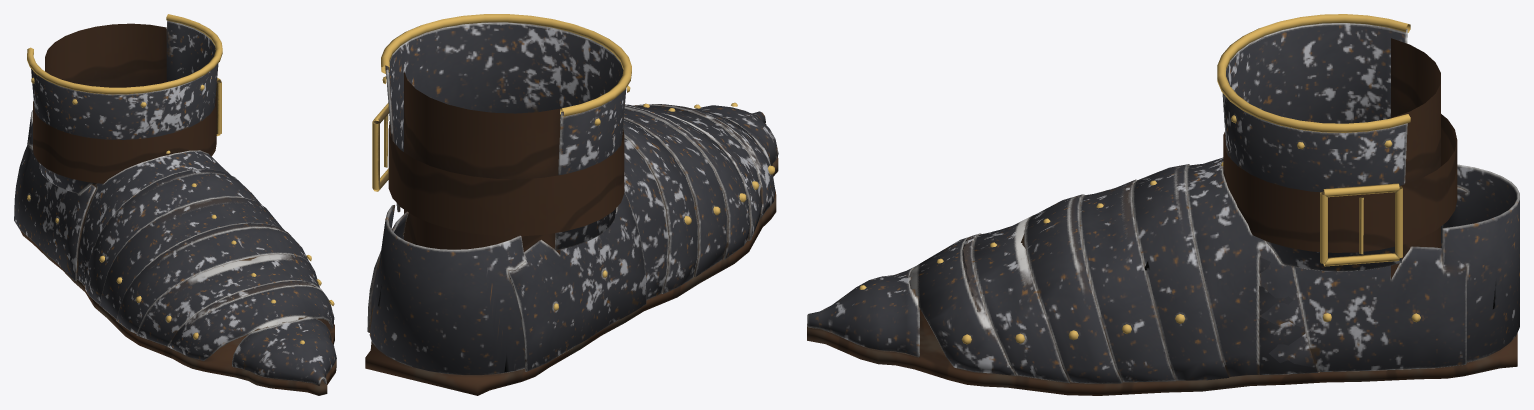
The model's file is SM_EagleSabatons_L_LOD1.fbx.
3 renders of one model, left to right at view 1: azimuth 30°, elevation 25°; view 2: azimuth 150°, elevation 25°; view 3: azimuth 270°, elevation 25°, orthographic. The views are drawn at different scales.
Visible parts, largest first — view 1: SM_EagleSabatons_L_LOD1; view 2: SM_EagleSabatons_L_LOD1; view 3: SM_EagleSabatons_L_LOD1.
Boxes of the visible parts, x1,y1,x2,y2 form: SM_EagleSabatons_L_LOD1: (14,14,336,395); SM_EagleSabatons_L_LOD1: (365,14,778,395); SM_EagleSabatons_L_LOD1: (807,14,1519,395).
Size of the model in its own units: 0.1108 by 0.117 by 0.2808.
